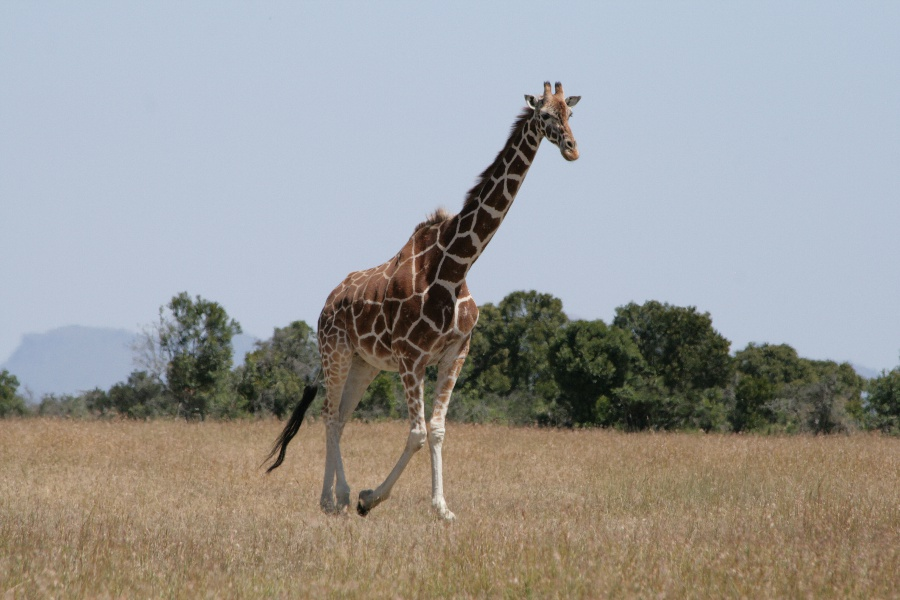giraffe: (292, 65, 597, 521)
